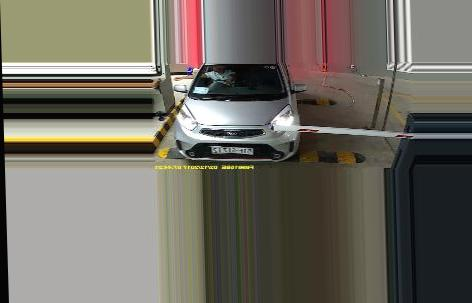License_Plate: (210, 144, 254, 156)
